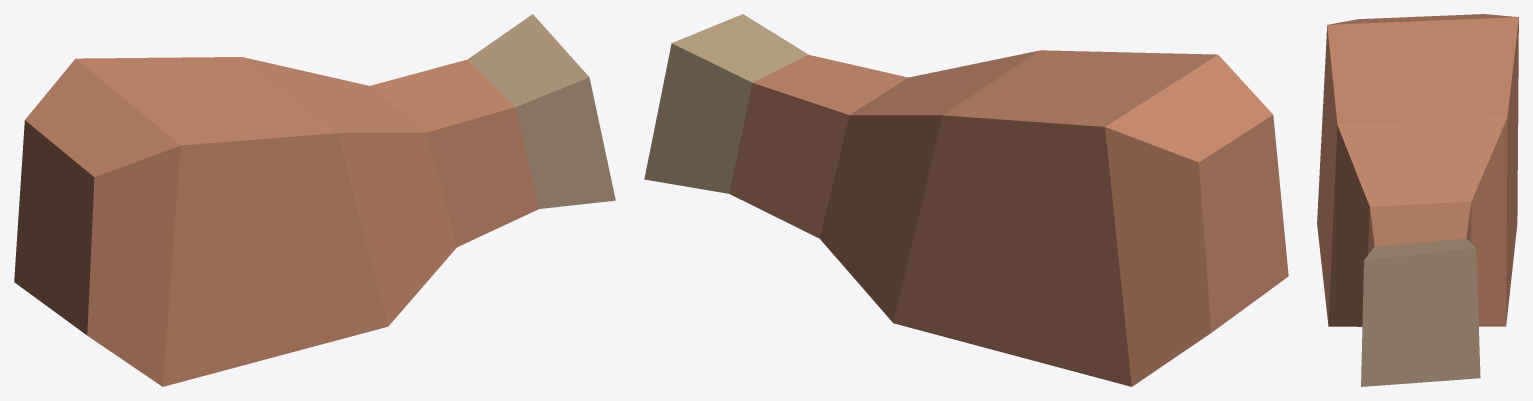
File: chickenDrum02.fbx
The picture shows the model from 3 angles, left to right: view 1: azimuth 30°, elevation 25°; view 2: azimuth 150°, elevation 25°; view 3: azimuth 270°, elevation 25°; orthographic projection. The views are drawn at different scales.
Parts seen in each view (by area): view 1: chickenDrum02; view 2: chickenDrum02; view 3: chickenDrum02.
Boxes of the visible parts, left/top/right/bottom form: chickenDrum02: left=14, top=14, right=615, bottom=386; chickenDrum02: left=644, top=14, right=1288, bottom=386; chickenDrum02: left=1317, top=14, right=1518, bottom=386.
Bounding box in the file's own units: 16.91 × 7.25 × 6.09.
1 material, 1 textured.
